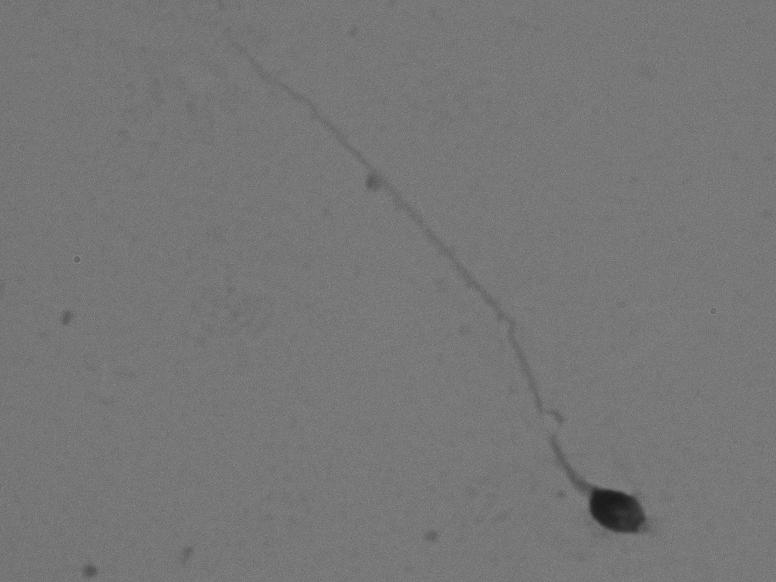Abnormal: (134, 14, 687, 550)
